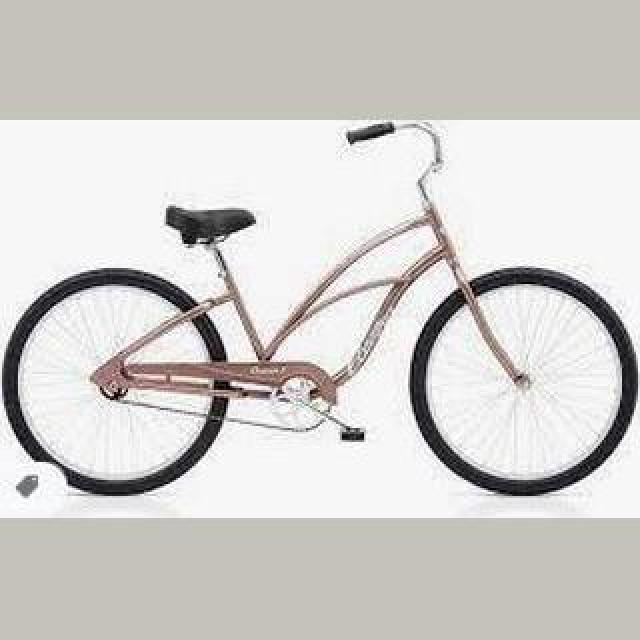Person: (0, 120, 640, 498)
